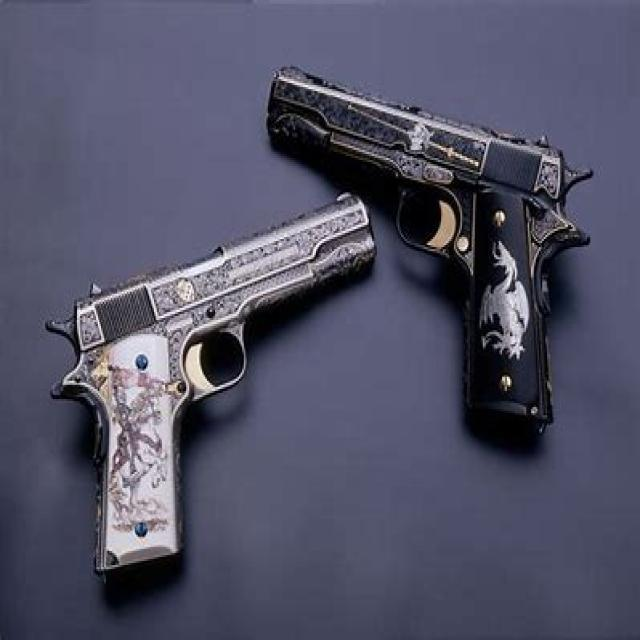Pistol: (256, 52, 611, 458), (62, 185, 391, 610)
